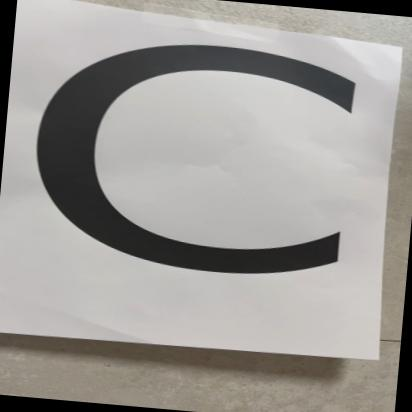seat: (0, 0, 395, 360)
